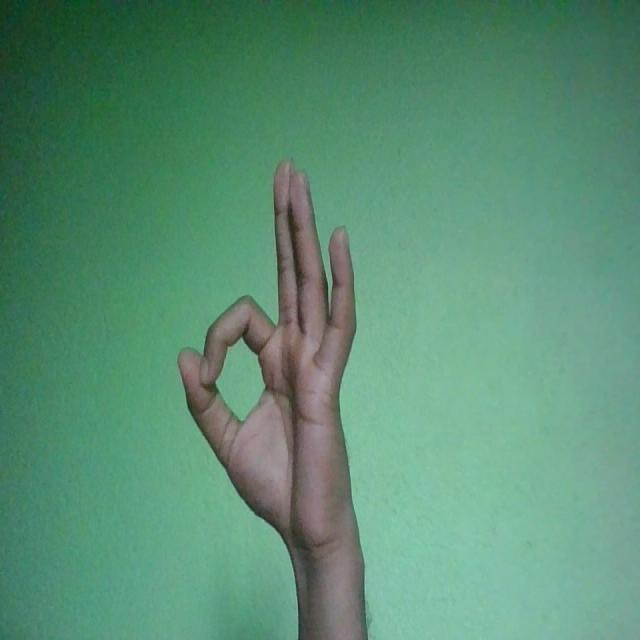Rock On: (178, 159, 358, 557)
